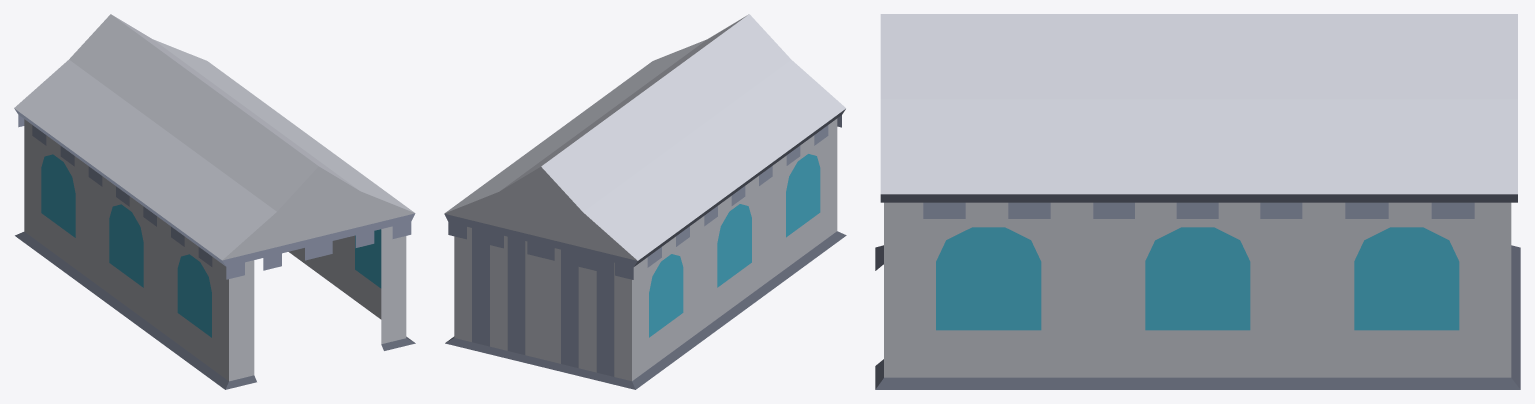
Rendered from Tent_Kitchen.fbx.
The picture shows the model from 3 angles, left to right: view 1: azimuth 30°, elevation 25°; view 2: azimuth 150°, elevation 25°; view 3: azimuth 270°, elevation 25°; orthographic projection. The views are drawn at different scales.
Visible parts, largest first — view 1: Tent_Kitchen; view 2: Tent_Kitchen; view 3: Tent_Kitchen.
Part boxes in pixels (left/top/right/bottom): Tent_Kitchen: left=14, top=14, right=415, bottom=389; Tent_Kitchen: left=444, top=14, right=846, bottom=389; Tent_Kitchen: left=875, top=14, right=1520, bottom=389.
Bounding box in the file's own units: 4.41 × 4.34 × 8.33.
